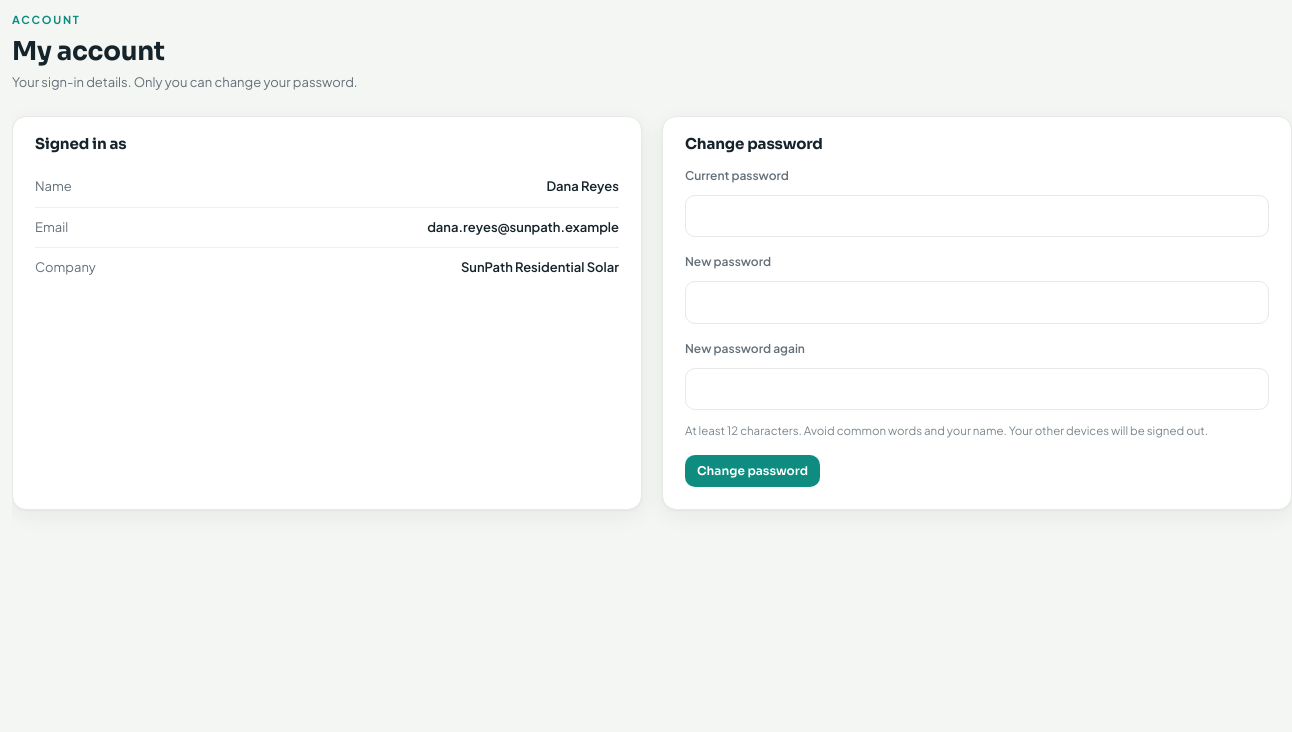
Test: my account and change password (2026-10-22) › changes the password with the current one, and checks the two new ones match
Step 1. Type "old-password-123" into the password field labelled "Current password" → [977, 216], box [685,195,1269,238]
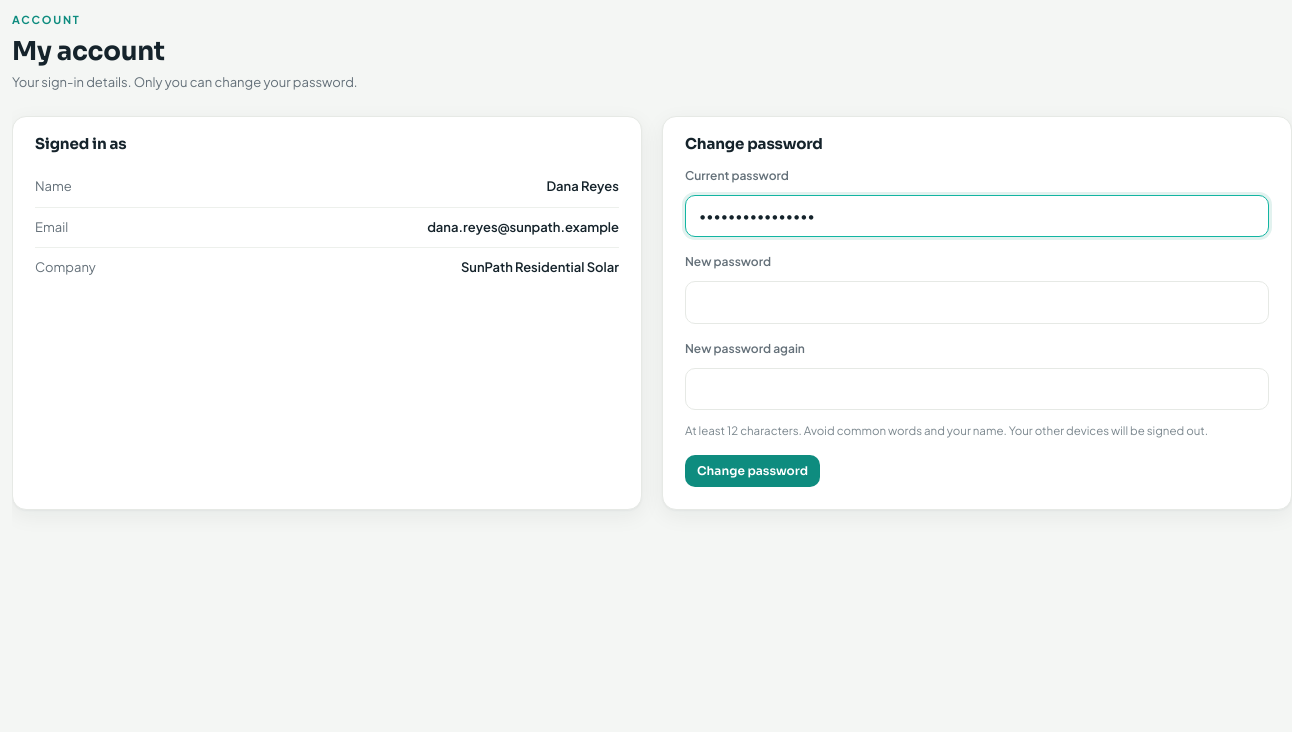
Step 2. Type "Brand-new-password-42" into the password field labelled "New password" → [977, 303], box [685,281,1269,324]
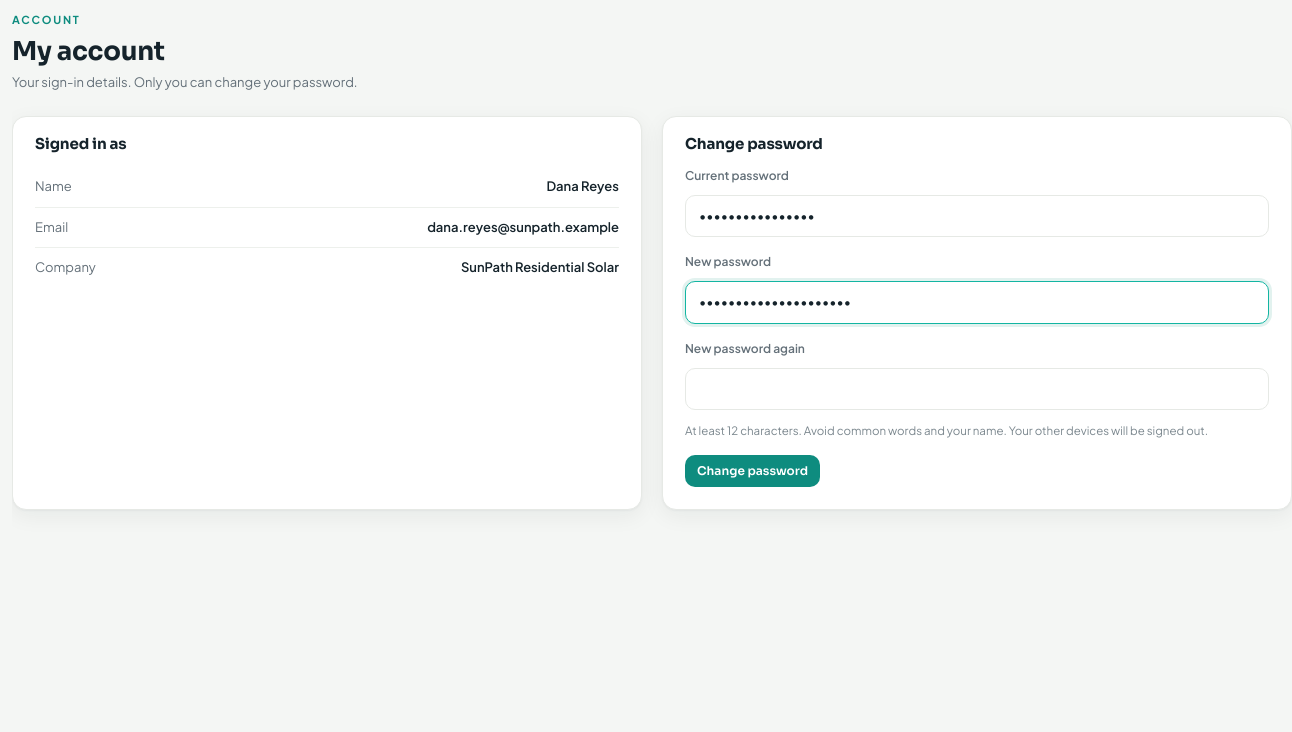
Step 3. Type "Brand-new-password-4" into the password field labelled "New password again" → [977, 389], box [685,368,1269,410]
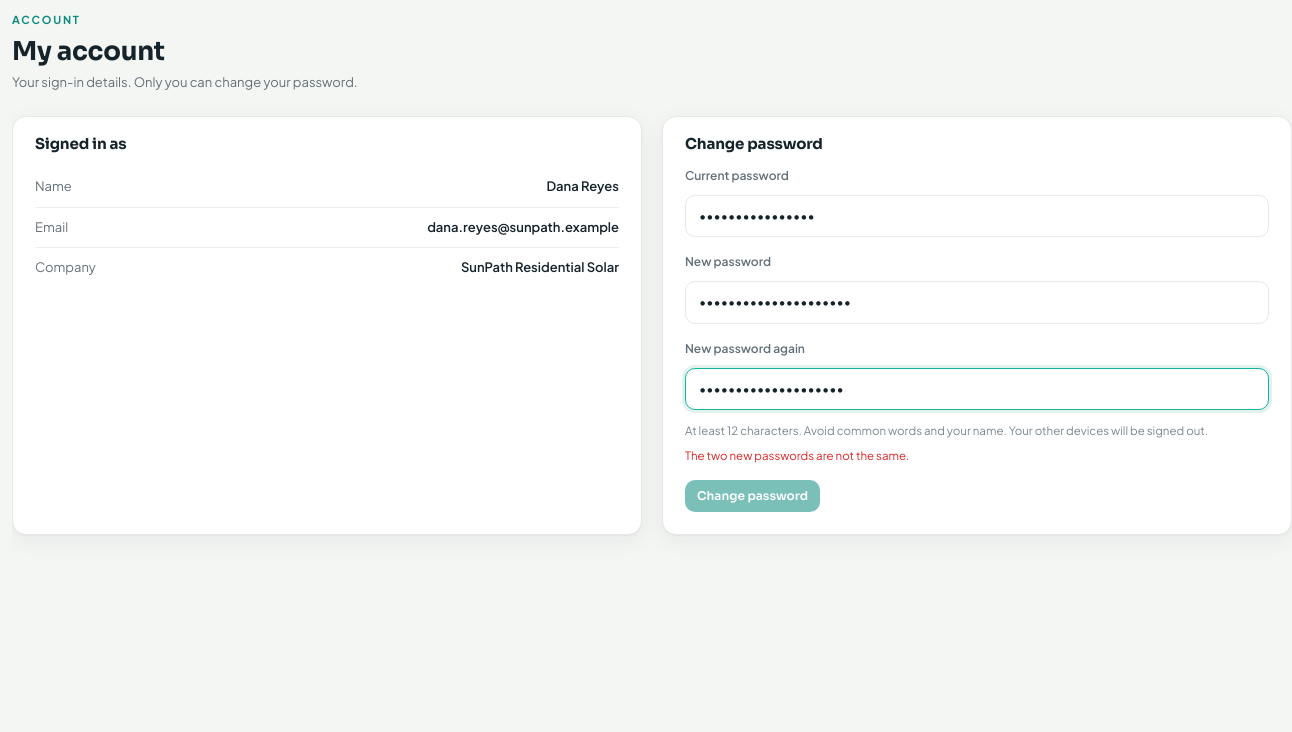
Result: the text "The two new passwords are not the same." is shown at [685,448,909,463]
Step 4. Type "2" into the password field labelled "New password again" → [977, 389], box [685,368,1269,410]
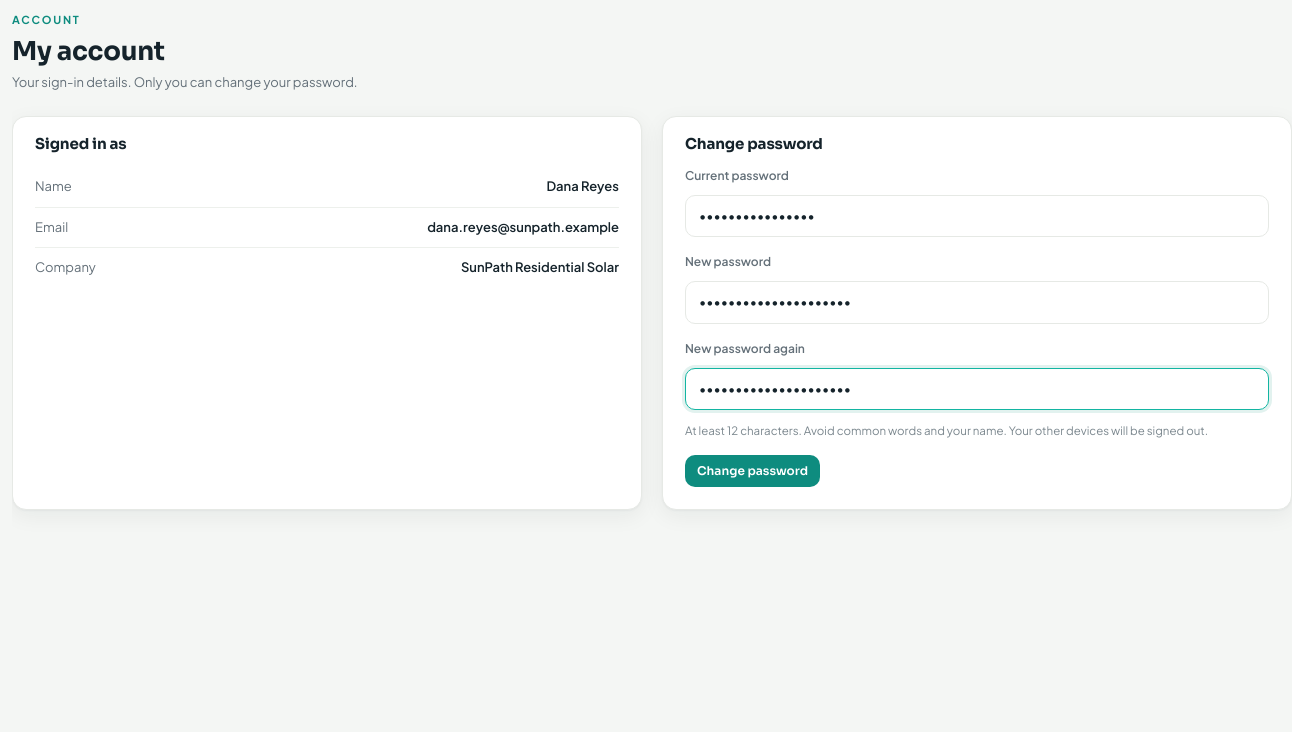
Step 5. Click the button "Change password" → [753, 471], box [685,455,820,487]
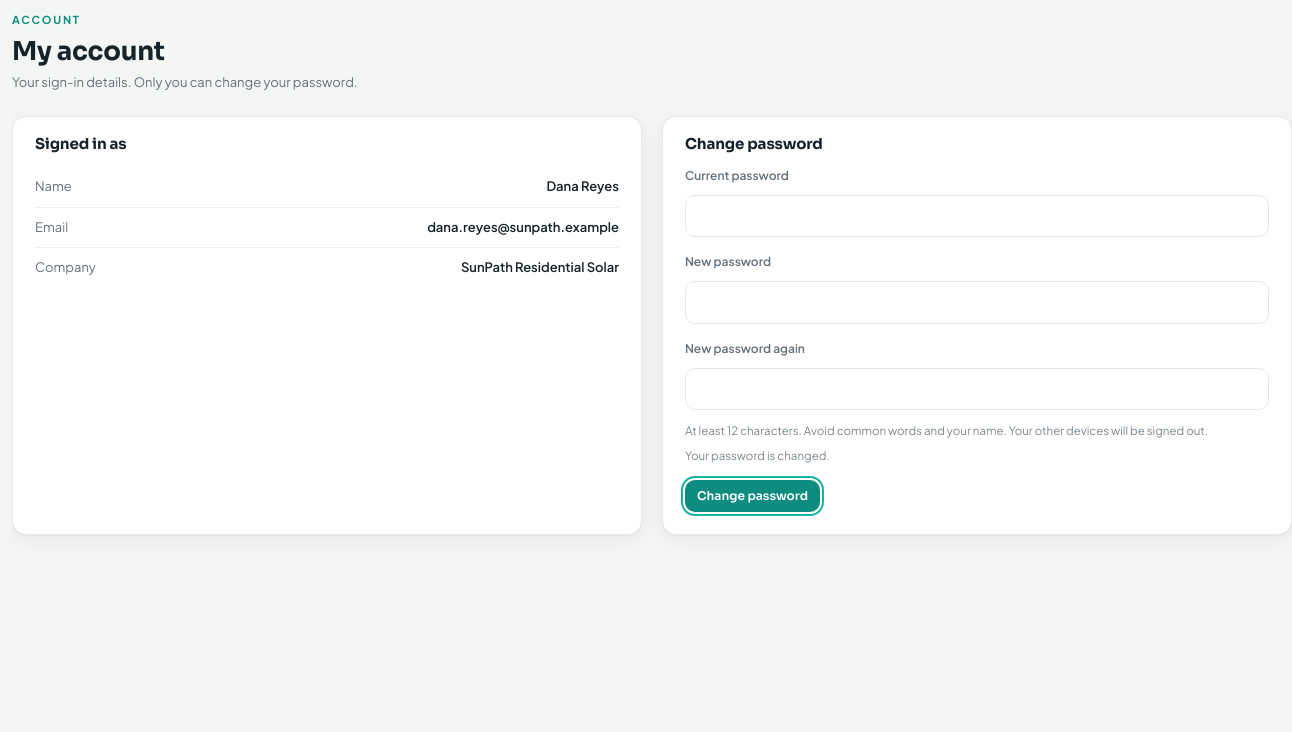
Result: the text "Your password is changed." is shown at [685,448,830,463]
